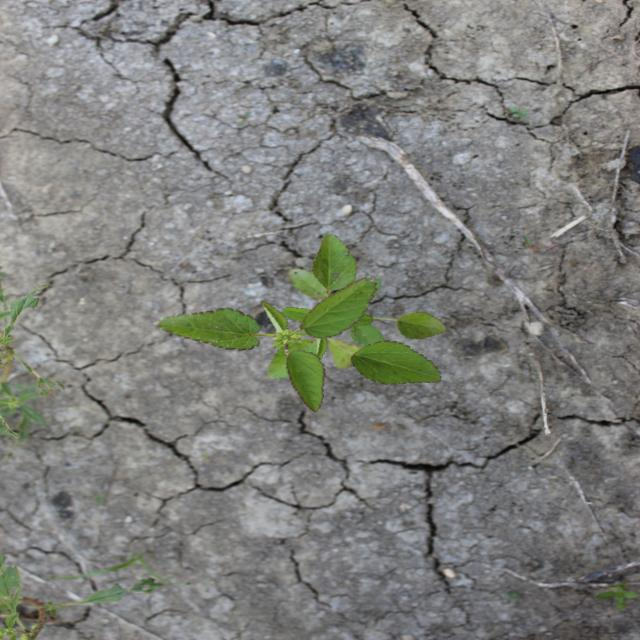PricklySida: (154, 232, 450, 414)
